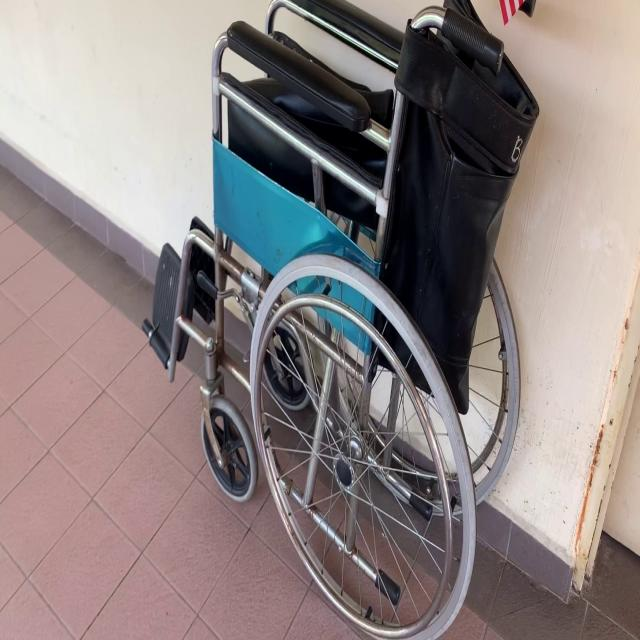wheelchair: (138, 0, 548, 631)
